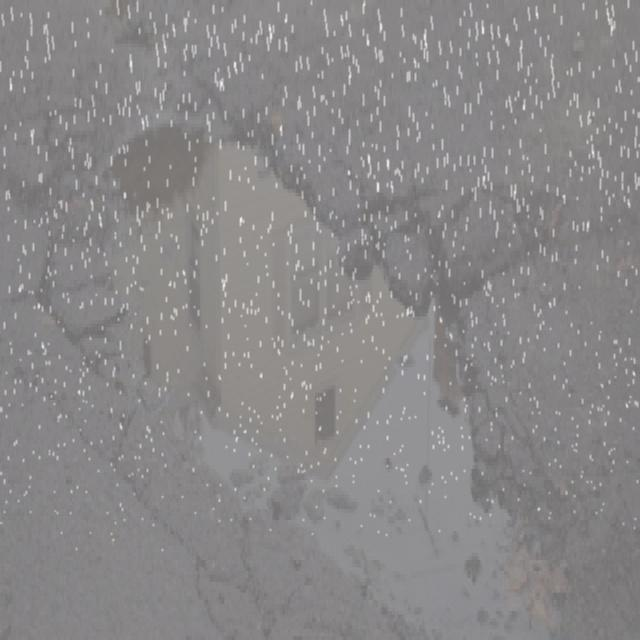Pothole: (44, 58, 592, 640)
